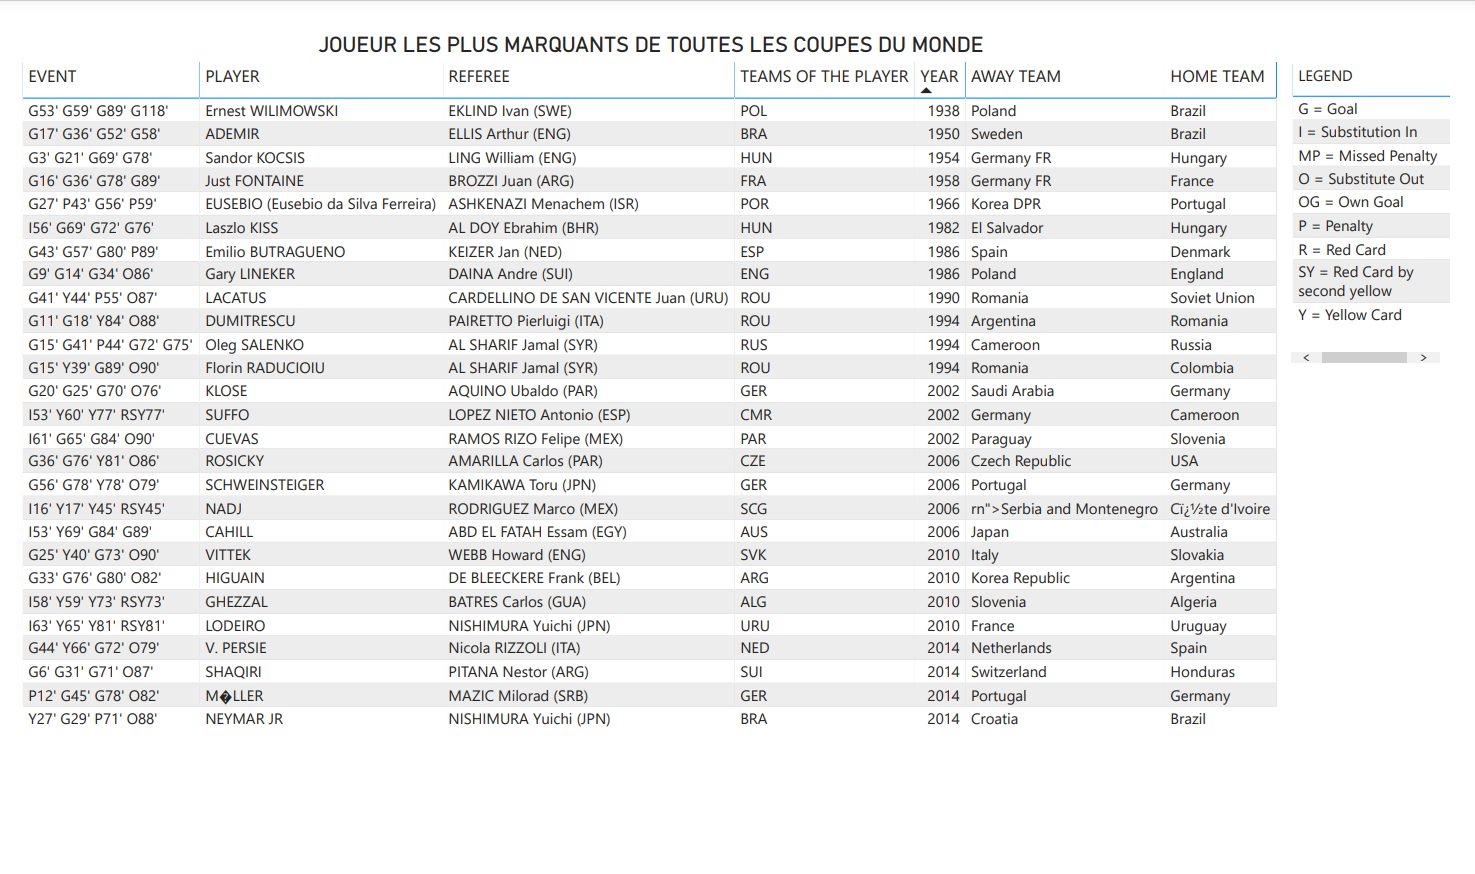

The page's visual inventory and layout, read from the dashboard file:
{"tool":"powerbi","page":{"name":"Page 1","canvas":[1280,720],"ordinal":0},"visuals":[{"type":"tableEx","title":"JOUEUR LES PLUS MARQUANTS DE TOUTES LES COUPES DU MONDE","fields":{"Values":["Sheet1.EVENT","Sheet1.PLAYER","Sheet1.REFEREE","Sheet1.TEAMS","Sum(Sheet1.YEARS)","Sheet1.AWAY TEAM","Sheet1.HOME TEAM"]},"box":[0,0,1127.6,719.7],"z":0},{"type":"tableEx","fields":{"Values":["Feuil1.LEGEND"]},"box":[1127.6,23.3,149.7,274.7],"z":1}]}

Visuals, with their boxes on the page's 1280x720 design canvas (x1, y1, x2, y2). These are canvas units, not pixel positions in the 1475x874 screenshot, which may show the page scaled, cropped or inside an application window:
"JOUEUR LES PLUS MARQUANTS DE TOUTES LES COUPES DU MONDE" tableEx: 0 0 1128 720
tableEx - Feuil1.LEGEND: 1128 23 1277 298
